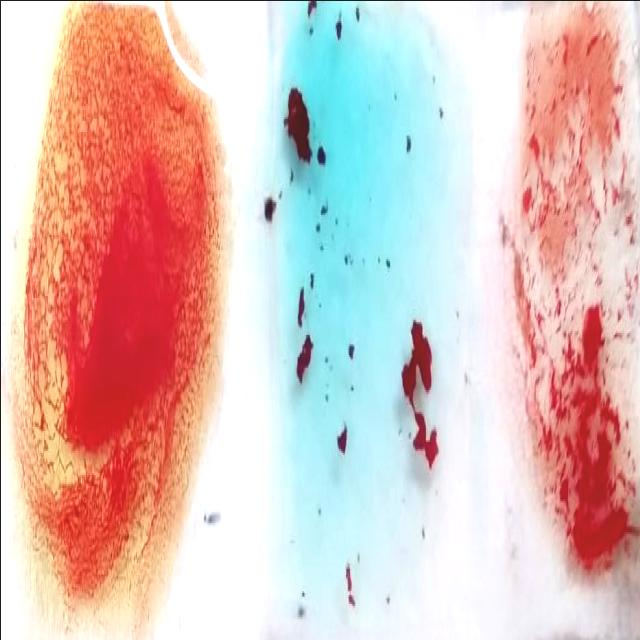A: (278, 21, 451, 624)
B: (21, 2, 214, 640)
D: (512, 17, 636, 624)
